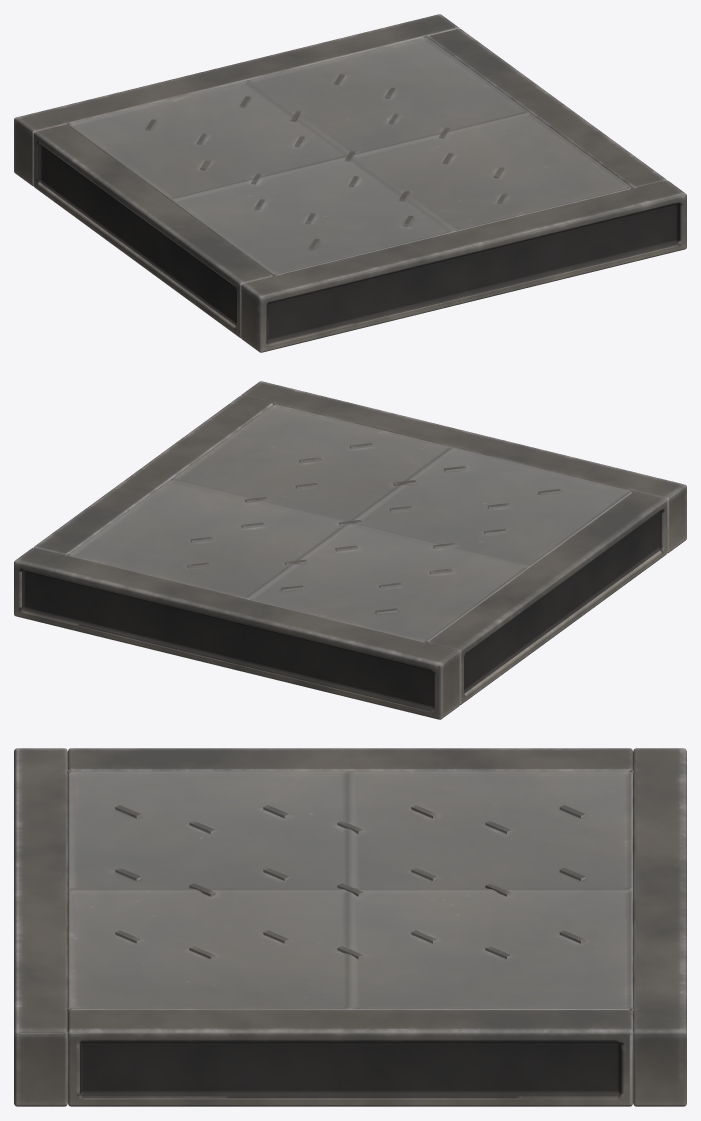
Rendered from SM_Foundation.glb.
3 renders of one model, top to bottom at view 1: azimuth 30°, elevation 25°; view 2: azimuth 150°, elevation 25°; view 3: azimuth 270°, elevation 25°, orthographic. The views are drawn at different scales.
Visible parts, largest first — view 1: SM_Foundation; view 2: SM_Foundation; view 3: SM_Foundation.
Part boxes in pixels (left/top/right/bottom): SM_Foundation: left=14, top=14, right=686, bottom=352; SM_Foundation: left=14, top=381, right=686, bottom=719; SM_Foundation: left=14, top=748, right=686, bottom=1106.
Size of the model in its own units: 2 by 0.252 by 2.
Materials: 4 (4 with a texture image).
